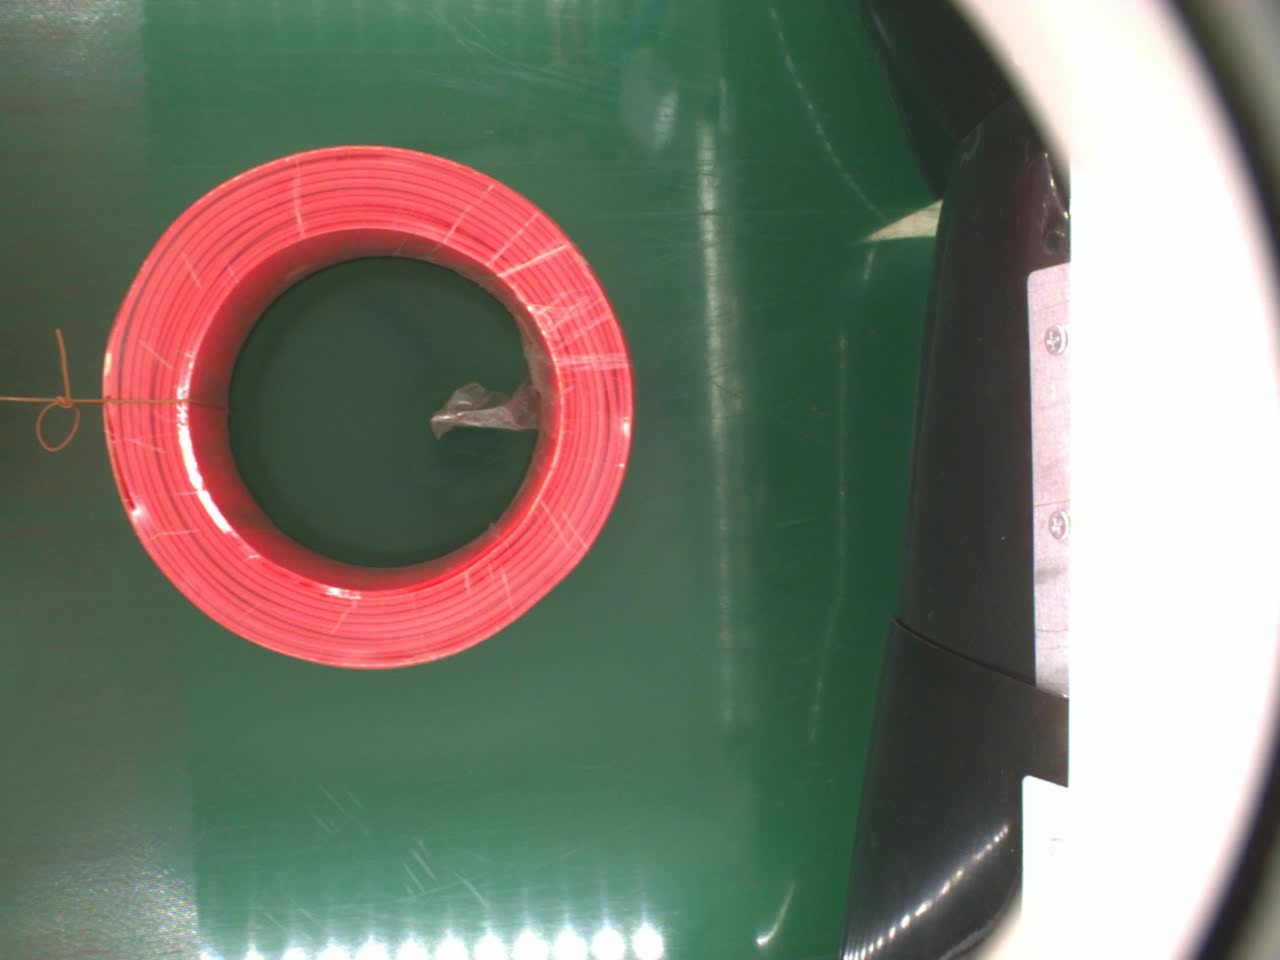red: (98, 145, 631, 672)
